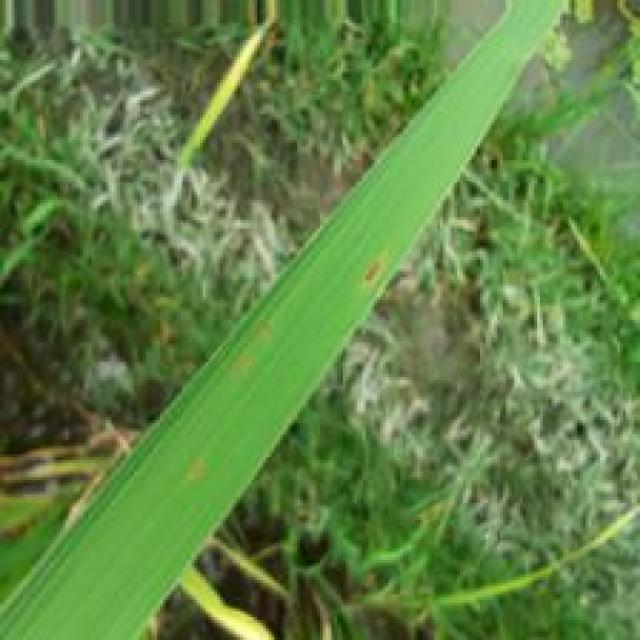HealthyLeaf: (0, 0, 561, 638)
